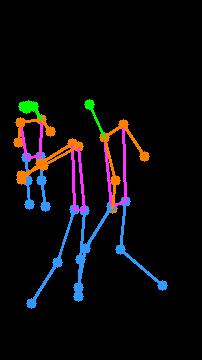normal: (20, 99, 175, 322), (8, 92, 55, 215)
